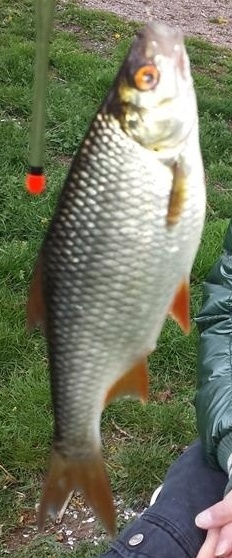Rutilus rutilus: (20, 20, 212, 538)
